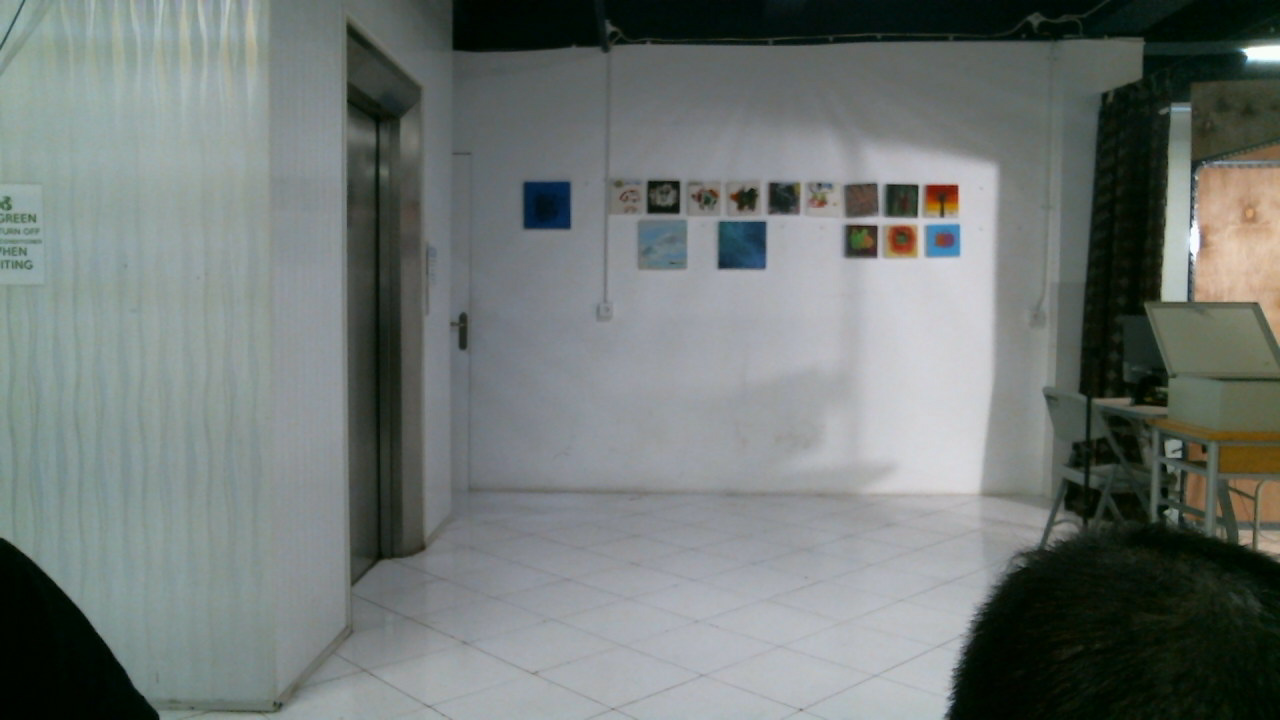bg: (154, 5, 1087, 532)
